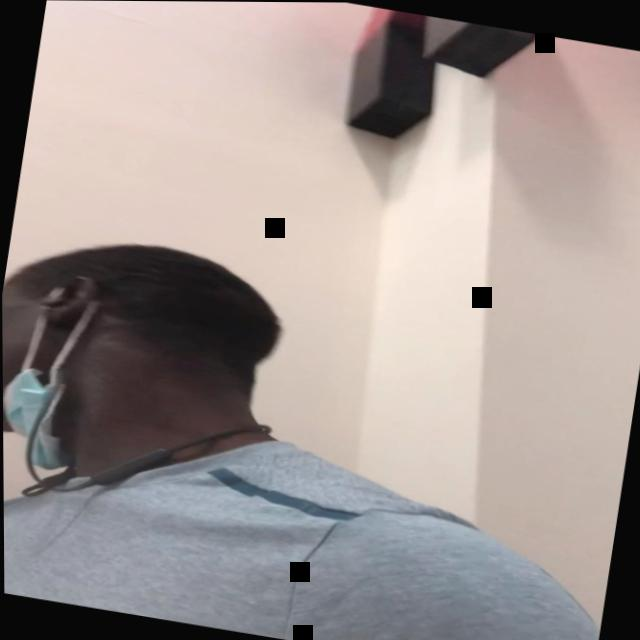NO-Mask: (1, 257, 95, 472)
